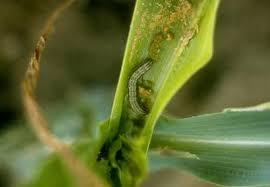fallarmy_worm: (123, 53, 160, 124)
